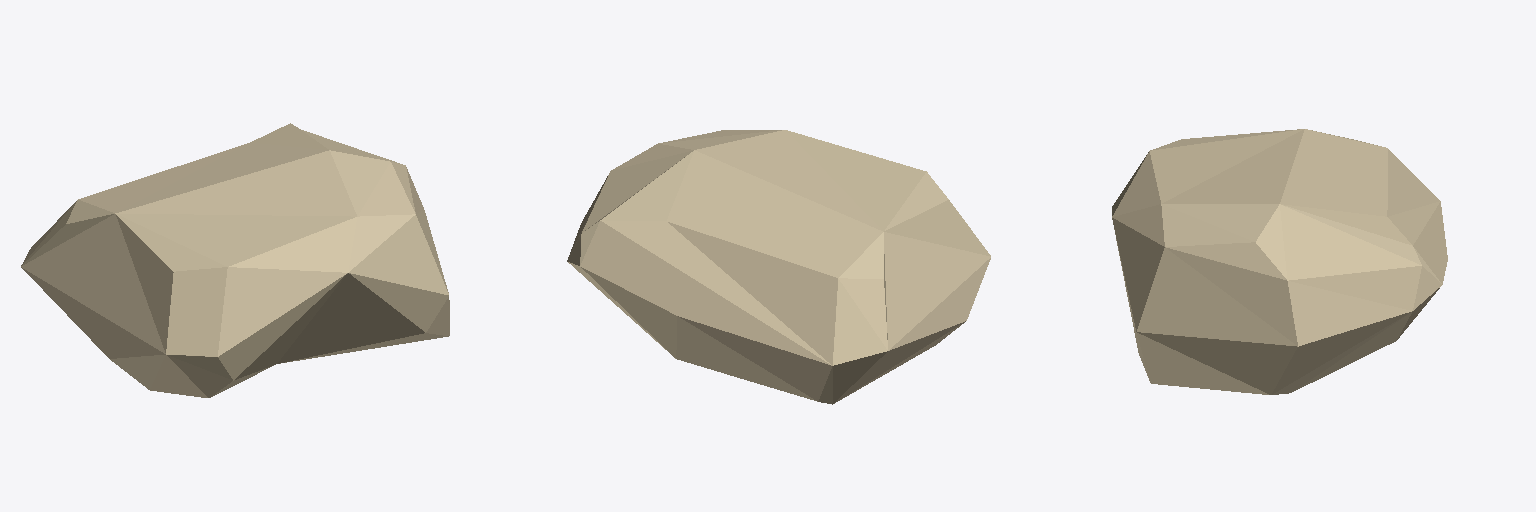
The picture shows the model from 3 angles: view 1: azimuth 30°, elevation 25°; view 2: azimuth 150°, elevation 25°; view 3: azimuth 270°, elevation 25°; orthographic projection.
Visible parts, largest first — view 1: 左足; view 2: 左足; view 3: 左足.
Boxes of the visible parts, x1=… form: 左足: x1=21, y1=123, x2=449, y2=397; 左足: x1=567, y1=130, x2=990, y2=404; 左足: x1=1112, y1=129, x2=1447, y2=394.
Size of the model in its own units: 0.7479 by 0.3533 by 0.6125.
1 materials, 1 textured.